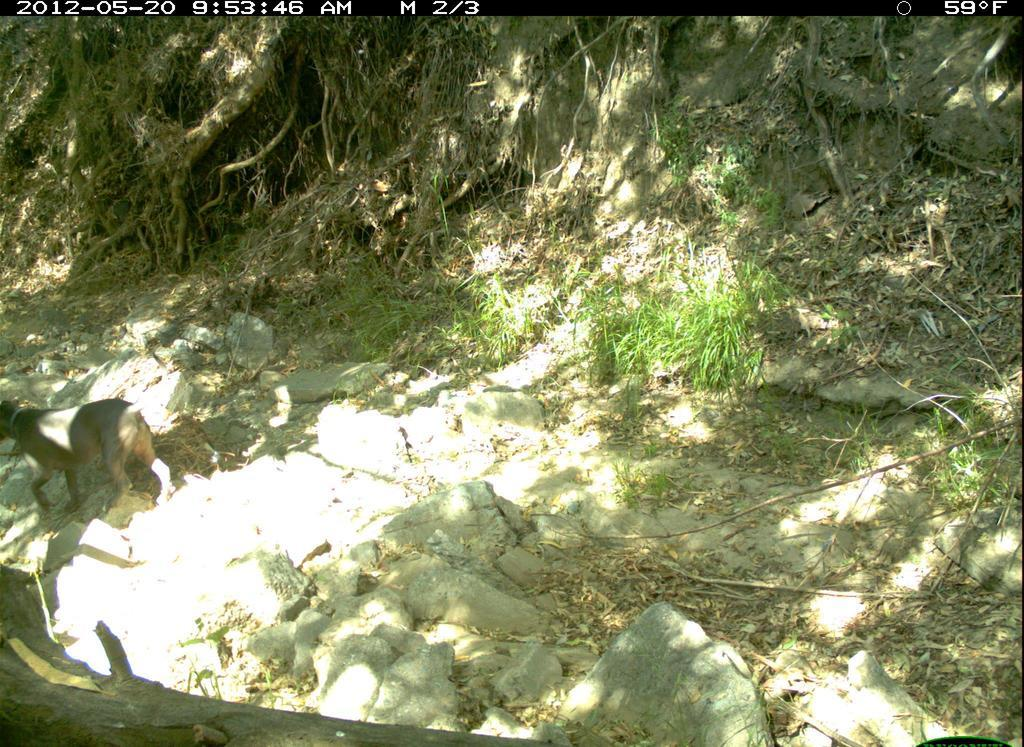dog: (6, 391, 185, 524)
